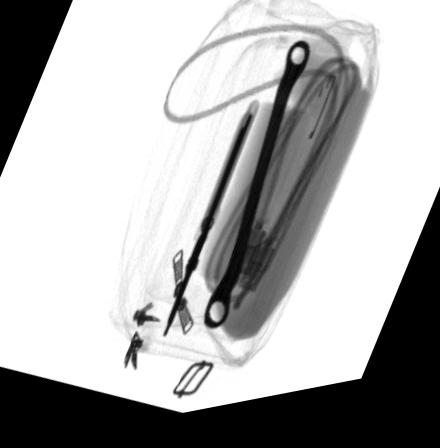Pliers: (164, 116, 257, 344)
Wrench: (205, 51, 312, 334)
